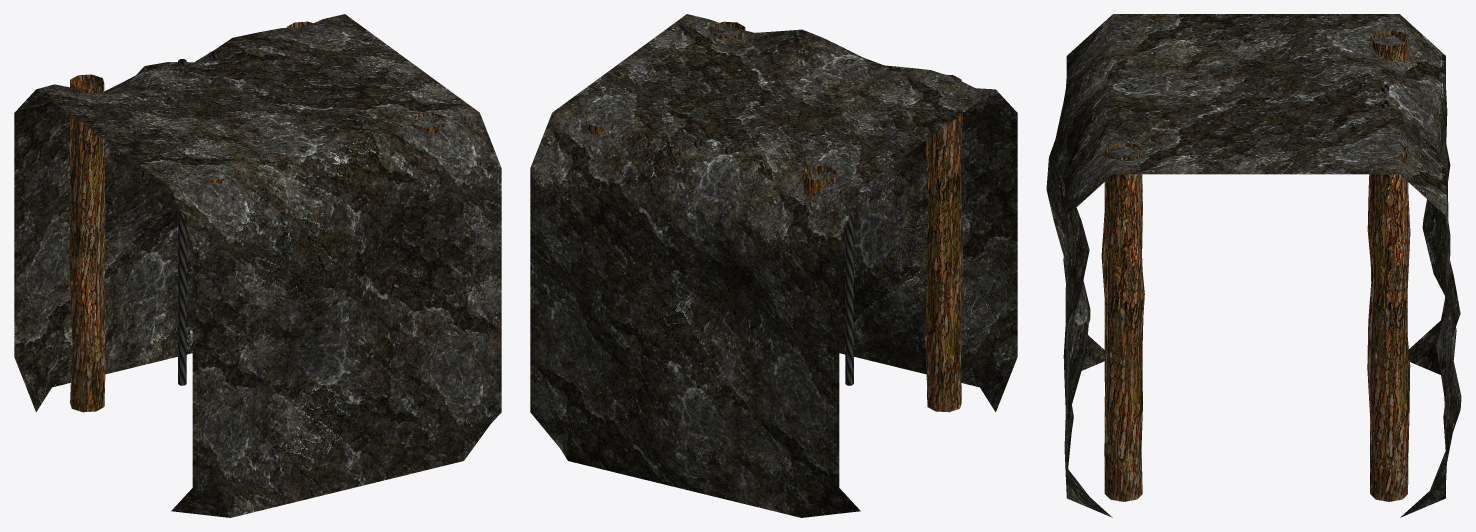
Rendered from Cave_083.fbx.
3 views of the same model, side by side, from view 1: azimuth 30°, elevation 25°; view 2: azimuth 150°, elevation 25°; view 3: azimuth 270°, elevation 25° (orthographic). The views are drawn at different scales.
Visible parts, largest first — view 1: Cave.083; view 2: Cave.083; view 3: Cave.083.
Part boxes in pixels (bbox=[...]): Cave.083: bbox=[14, 14, 501, 517]; Cave.083: bbox=[530, 14, 1017, 517]; Cave.083: bbox=[1046, 14, 1461, 517].
Size of the model in its own units: 300 by 308 by 328.
